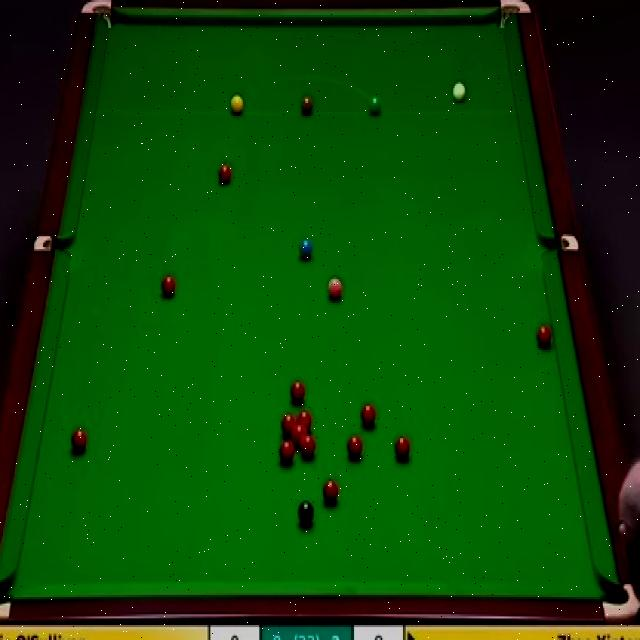black-ball: (297, 499, 313, 526)
blue-ball: (299, 236, 313, 263)
brown-ball: (300, 94, 314, 115)
green-ball: (368, 95, 382, 115)
pink-ball: (326, 277, 343, 301)
red-ball: (392, 434, 412, 464), (346, 433, 364, 465), (359, 399, 376, 431), (324, 476, 339, 507), (71, 427, 87, 455), (536, 324, 552, 351), (296, 409, 313, 434), (290, 380, 306, 406), (162, 272, 176, 300), (279, 441, 294, 466), (282, 412, 296, 438), (300, 434, 315, 458), (218, 162, 233, 185), (293, 425, 308, 447)
white-ball: (451, 80, 467, 101)
yellow-ball: (230, 94, 244, 115)
